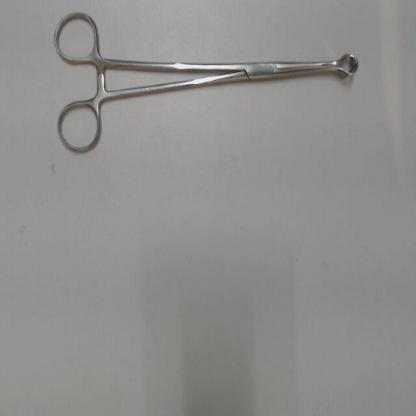8 Babcock Tissue Forceps: (51, 4, 365, 158)
